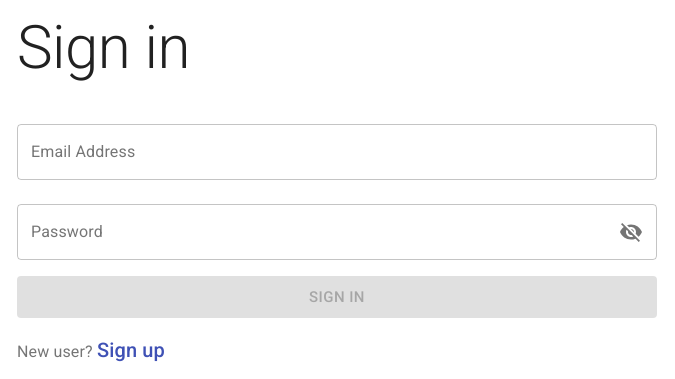
Test case: login: after entering a value in email & password the button should be enabled
Step 1. Type "aw@tt.com" into the field → coordinates (337, 152), box top-left (17, 124), bottom-right (657, 180)
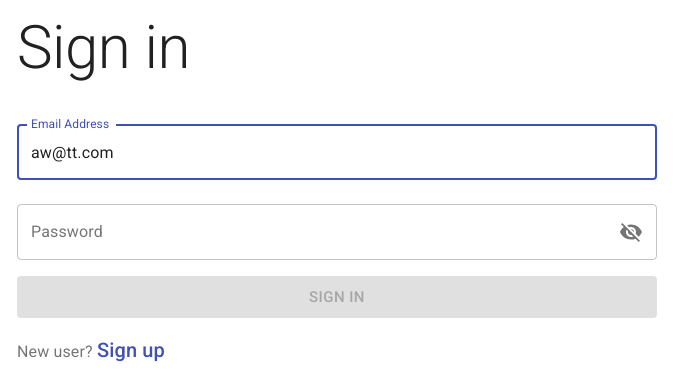
Step 2. Type "123" into the password field labelled "Password" → coordinates (308, 232), box top-left (17, 204), bottom-right (599, 260)
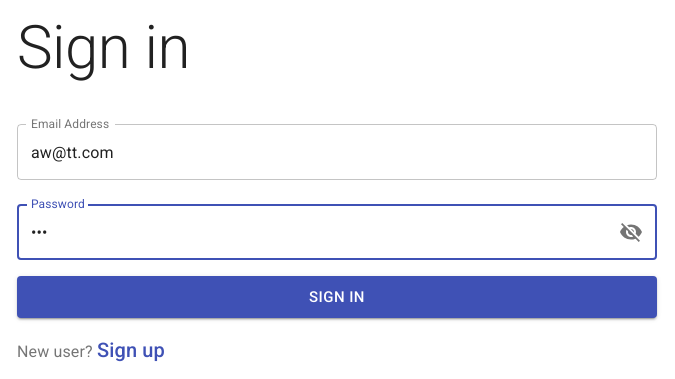
Result: the button "Sign in" is enabled at top-left (17, 276), bottom-right (657, 318)
